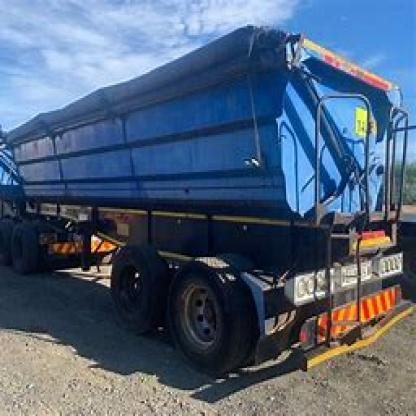dump_truck: (11, 19, 414, 386)
